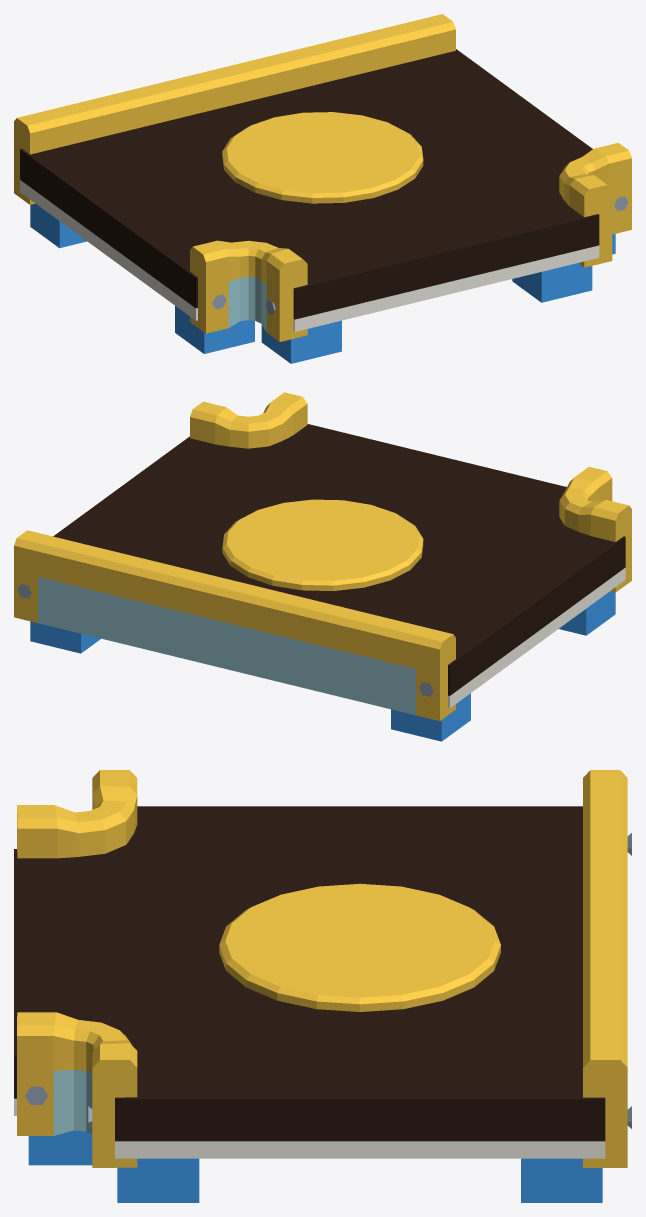
The model's file is Tee.glb.
3 renders of one model, top to bottom at view 1: azimuth 30°, elevation 25°; view 2: azimuth 150°, elevation 25°; view 3: azimuth 270°, elevation 25°, orthographic. The views are drawn at different scales.
Parts seen in each view (by area): view 1: Tee; view 2: Tee; view 3: Tee.
Boxes of the visible parts, left/top/right/bottom form: Tee: left=14, top=14, right=631, bottom=363; Tee: left=14, top=392, right=631, bottom=741; Tee: left=14, top=770, right=631, bottom=1202.
Bounding box in the file's own units: 1.11 × 0.2626 × 0.9948.
Materials: 1 (1 with a texture image).
